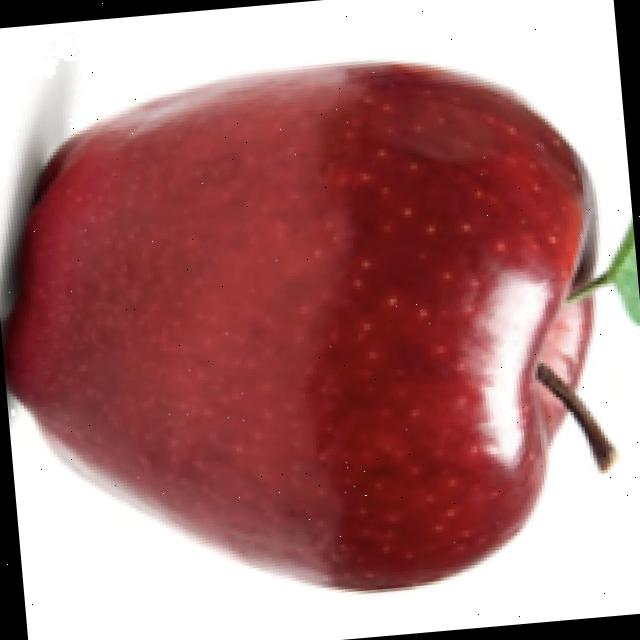apple: (0, 49, 640, 598)
